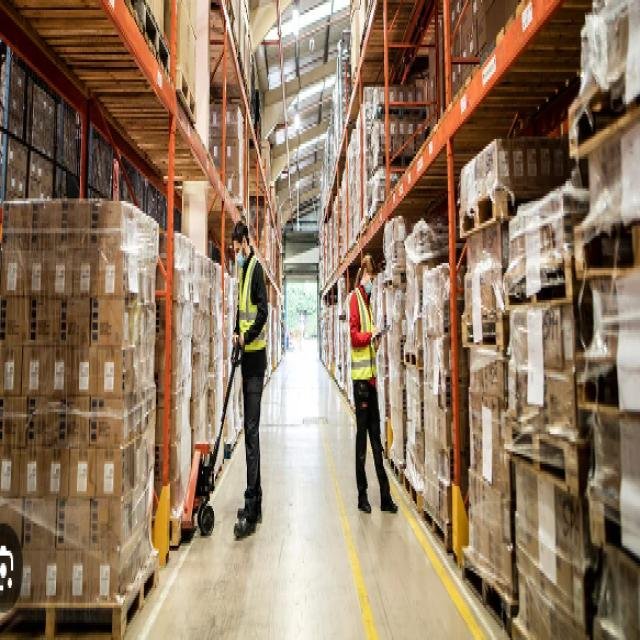shoes: (233, 498, 264, 540), (356, 491, 399, 516)
vest: (236, 253, 268, 354), (349, 284, 378, 381)
